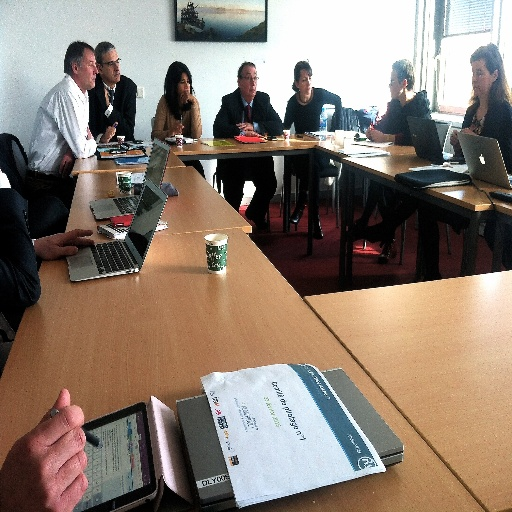hand: (18, 390, 91, 505), (34, 226, 95, 262), (59, 145, 75, 180), (103, 125, 116, 145), (168, 120, 184, 135), (369, 128, 384, 143), (234, 121, 254, 132), (450, 128, 460, 148), (458, 127, 476, 135), (242, 130, 262, 137), (86, 123, 93, 139), (365, 127, 371, 140)
